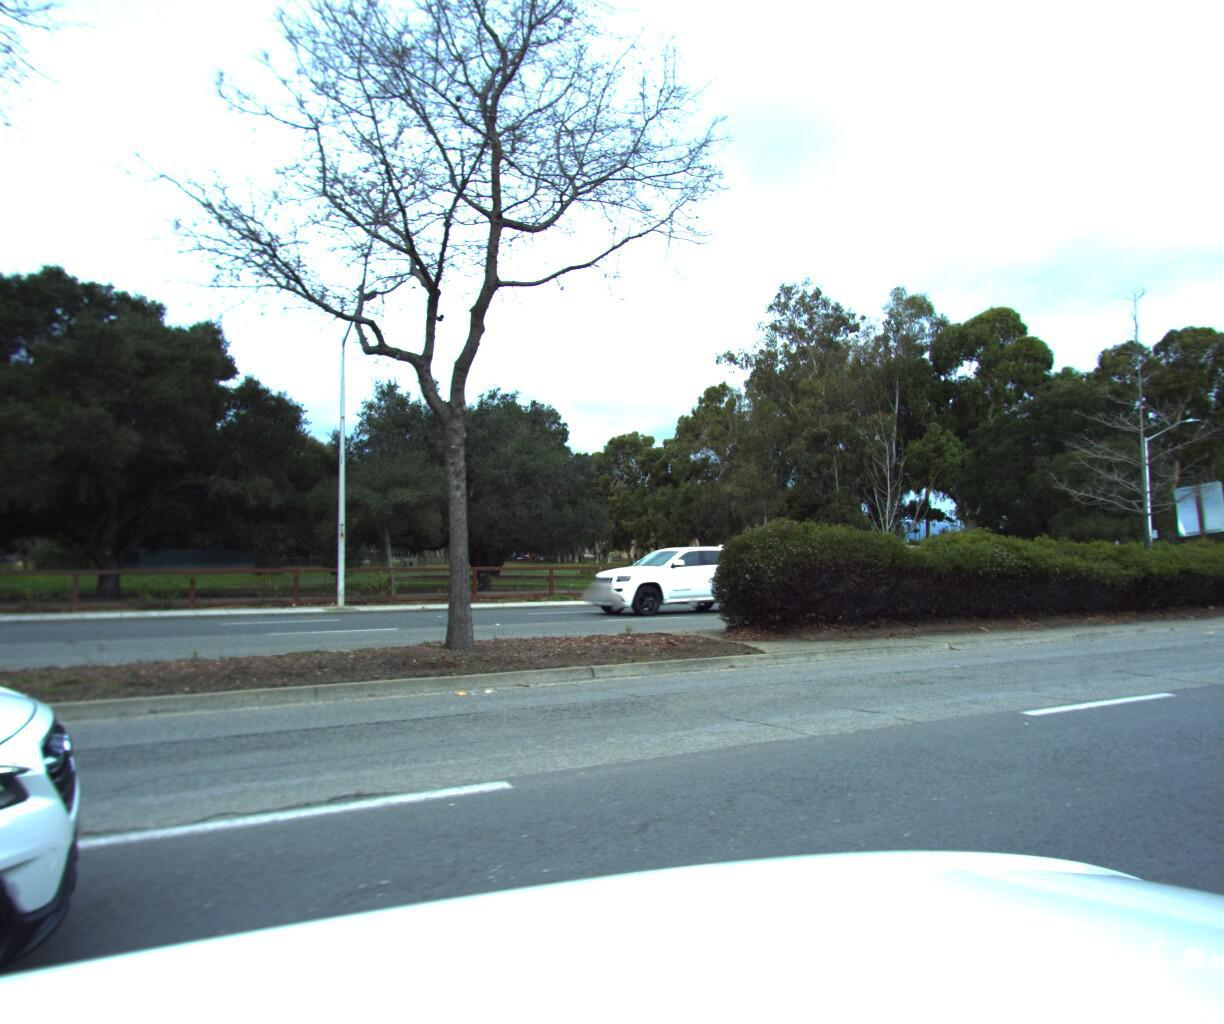car: (577, 544, 777, 618)
